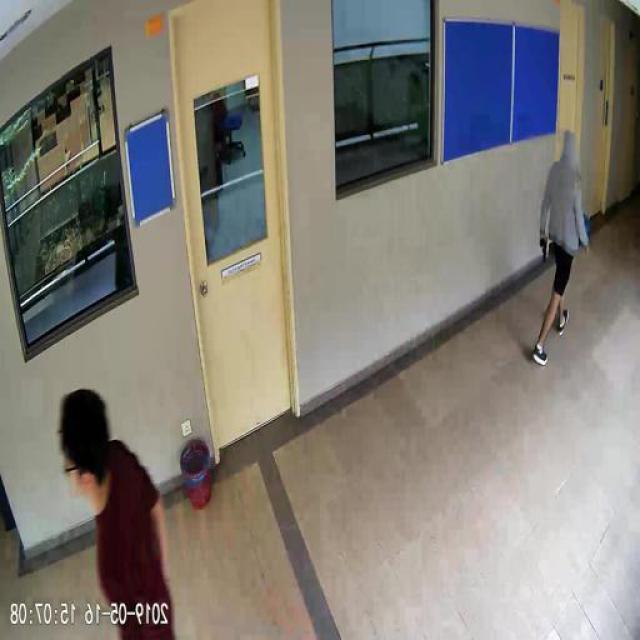Gun: (541, 234, 549, 262)
